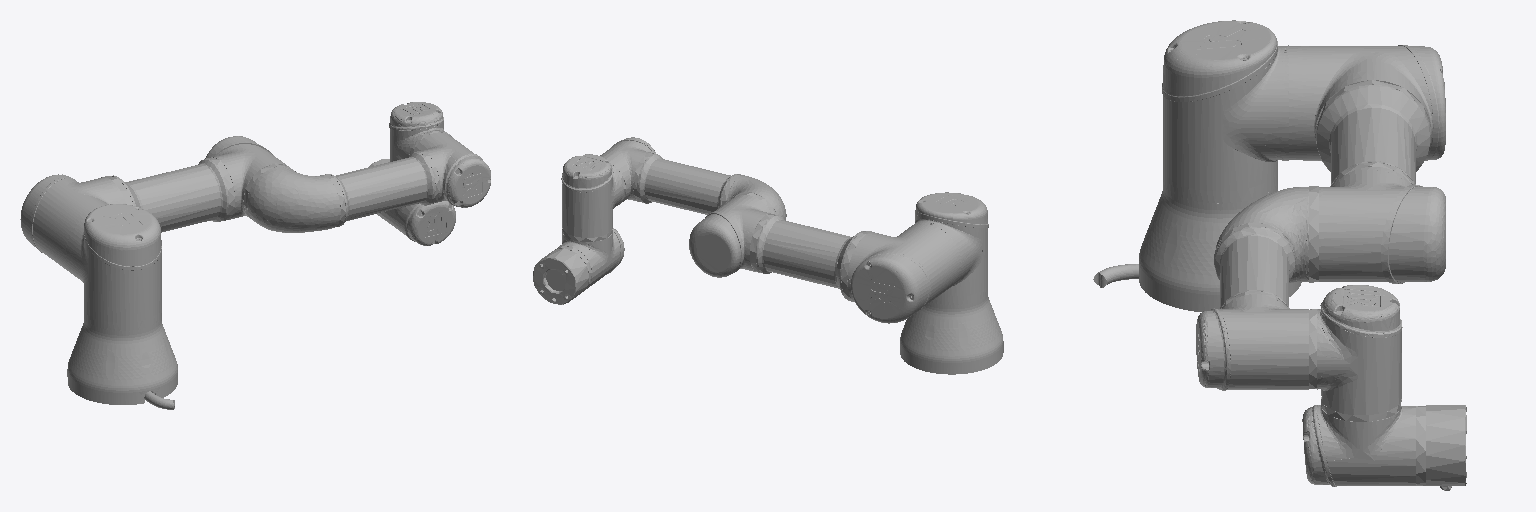
The robot description file, URDF, robot "ur3":
<?xml version="1.0" ?>
<!-- =================================================================================== -->
<!-- |    This document was autogenerated by xacro from urdf/ur3_joint_limited_robot.urdf.xacro | -->
<!-- |    EDITING THIS FILE BY HAND IS NOT RECOMMENDED                                 | -->
<!-- =================================================================================== -->
<robot name="ur3">
  <gazebo>
    <plugin filename="libgazebo_ros_control.so" name="ros_control">
      <!--robotNamespace>/</robotNamespace-->
      <!--robotSimType>gazebo_ros_control/DefaultRobotHWSim</robotSimType-->
    </plugin>
    <!--
    <plugin name="gazebo_ros_power_monitor_controller" filename="libgazebo_ros_power_monitor.so">
      <alwaysOn>true</alwaysOn>
      <updateRate>1.0</updateRate>
      <timeout>5</timeout>
      <powerStateTopic>power_state</powerStateTopic>
      <powerStateRate>10.0</powerStateRate>
      <fullChargeCapacity>87.78</fullChargeCapacity>     
      <dischargeRate>-474</dischargeRate>
      <chargeRate>525</chargeRate>
      <dischargeVoltage>15.52</dischargeVoltage>
      <chargeVoltage>16.41</chargeVoltage>
    </plugin>
-->
  </gazebo>
  <!--
  Author: [author]
-->
  <!-- measured from model -->
  <link name="base_link">
    <visual>
      <geometry>
        <mesh filename="package://ur_description/meshes/ur3/visual/base.dae"/>
      </geometry>
      <material name="LightGrey">
        <color rgba="0.7 0.7 0.7 1.0"/>
      </material>
    </visual>
    <collision>
      <geometry>
        <mesh filename="package://ur_description/meshes/ur3/collision/base.stl"/>
      </geometry>
    </collision>
    <inertial>
      <mass value="2.0"/>
      <origin rpy="0 0 0" xyz="0.0 0.0 0.0"/>
      <inertia ixx="0.0030531654454" ixy="0.0" ixz="0.0" iyy="0.0030531654454" iyz="0.0" izz="0.005625"/>
    </inertial>
  </link>
  <joint name="shoulder_pan_joint" type="revolute">
    <parent link="base_link"/>
    <child link="shoulder_link"/>
    <origin rpy="0.0 0.0 0.0" xyz="0.0 0.0 0.1519"/>
    <axis xyz="0 0 1"/>
    <limit effort="330.0" lower="-3.141592653589793" upper="3.141592653589793" velocity="2.16"/>
    <dynamics damping="0.0" friction="0.0"/>
  </joint>
  <link name="shoulder_link">
    <visual>
      <geometry>
        <mesh filename="package://ur_description/meshes/ur3/visual/shoulder.dae"/>
      </geometry>
      <material name="LightGrey">
        <color rgba="0.7 0.7 0.7 1.0"/>
      </material>
    </visual>
    <collision>
      <geometry>
        <mesh filename="package://ur_description/meshes/ur3/collision/shoulder.stl"/>
      </geometry>
    </collision>
    <inertial>
      <mass value="2.0"/>
      <origin rpy="0 0 0" xyz="0.0 0.0 0.0"/>
      <inertia ixx="0.008093163429399999" ixy="0.0" ixz="0.0" iyy="0.008093163429399999" iyz="0.0" izz="0.005625"/>
    </inertial>
  </link>
  <joint name="shoulder_lift_joint" type="revolute">
    <parent link="shoulder_link"/>
    <child link="upper_arm_link"/>
    <origin rpy="0.0 1.5707963267948966 0.0" xyz="0.0 0.1198 0.0"/>
    <axis xyz="0 1 0"/>
    <limit effort="330.0" lower="-3.141592653589793" upper="3.141592653589793" velocity="2.16"/>
    <dynamics damping="0.0" friction="0.0"/>
  </joint>
  <link name="upper_arm_link">
    <visual>
      <geometry>
        <mesh filename="package://ur_description/meshes/ur3/visual/upperarm.dae"/>
      </geometry>
      <material name="LightGrey">
        <color rgba="0.7 0.7 0.7 1.0"/>
      </material>
    </visual>
    <collision>
      <geometry>
        <mesh filename="package://ur_description/meshes/ur3/collision/upperarm.stl"/>
      </geometry>
    </collision>
    <inertial>
      <mass value="3.42"/>
      <origin rpy="0 0 0" xyz="0.0 0.0 0.121825"/>
      <inertia ixx="0.021728483221103233" ixy="0.0" ixz="0.0" iyy="0.021728483221103233" iyz="0.0" izz="0.00961875"/>
    </inertial>
  </link>
  <joint name="elbow_joint" type="revolute">
    <parent link="upper_arm_link"/>
    <child link="forearm_link"/>
    <origin rpy="0.0 0.0 0.0" xyz="0.0 -0.0925 0.24365"/>
    <axis xyz="0 1 0"/>
    <limit effort="150.0" lower="-3.141592653589793" upper="3.141592653589793" velocity="3.15"/>
    <dynamics damping="0.0" friction="0.0"/>
  </joint>
  <link name="forearm_link">
    <visual>
      <geometry>
        <mesh filename="package://ur_description/meshes/ur3/visual/forearm.dae"/>
      </geometry>
      <material name="LightGrey">
        <color rgba="0.7 0.7 0.7 1.0"/>
      </material>
    </visual>
    <collision>
      <geometry>
        <mesh filename="package://ur_description/meshes/ur3/collision/forearm.stl"/>
      </geometry>
    </collision>
    <inertial>
      <mass value="1.26"/>
      <origin rpy="0 0 0" xyz="0.0 0.0 0.106625"/>
      <inertia ixx="0.006546806443776375" ixy="0.0" ixz="0.0" iyy="0.006546806443776375" iyz="0.0" izz="0.00354375"/>
    </inertial>
  </link>
  <joint name="wrist_1_joint" type="revolute">
    <parent link="forearm_link"/>
    <child link="wrist_1_link"/>
    <origin rpy="0.0 1.5707963267948966 0.0" xyz="0.0 0.0 0.21325"/>
    <axis xyz="0 1 0"/>
    <limit effort="54.0" lower="-3.141592653589793" upper="3.141592653589793" velocity="3.2"/>
    <dynamics damping="0.0" friction="0.0"/>
  </joint>
  <link name="wrist_1_link">
    <visual>
      <geometry>
        <mesh filename="package://ur_description/meshes/ur3/visual/wrist1.dae"/>
      </geometry>
      <material name="LightGrey">
        <color rgba="0.7 0.7 0.7 1.0"/>
      </material>
    </visual>
    <collision>
      <geometry>
        <mesh filename="package://ur_description/meshes/ur3/collision/wrist1.stl"/>
      </geometry>
    </collision>
    <inertial>
      <mass value="0.8"/>
      <origin rpy="0 0 0" xyz="0.0 0.08505 0.0"/>
      <inertia ixx="0.002084999166" ixy="0.0" ixz="0.0" iyy="0.002084999166" iyz="0.0" izz="0.00225"/>
    </inertial>
  </link>
  <joint name="wrist_2_joint" type="revolute">
    <parent link="wrist_1_link"/>
    <child link="wrist_2_link"/>
    <origin rpy="0.0 0.0 0.0" xyz="0.0 0.08505 0.0"/>
    <axis xyz="0 0 1"/>
    <limit effort="54.0" lower="-3.141592653589793" upper="3.141592653589793" velocity="3.2"/>
    <dynamics damping="0.0" friction="0.0"/>
  </joint>
  <link name="wrist_2_link">
    <visual>
      <geometry>
        <mesh filename="package://ur_description/meshes/ur3/visual/wrist2.dae"/>
      </geometry>
      <material name="LightGrey">
        <color rgba="0.7 0.7 0.7 1.0"/>
      </material>
    </visual>
    <collision>
      <geometry>
        <mesh filename="package://ur_description/meshes/ur3/collision/wrist2.stl"/>
      </geometry>
    </collision>
    <inertial>
      <mass value="0.8"/>
      <origin rpy="0 0 0" xyz="0.0 0.0 0.08535"/>
      <inertia ixx="0.002084999166" ixy="0.0" ixz="0.0" iyy="0.002084999166" iyz="0.0" izz="0.00225"/>
    </inertial>
  </link>
  <joint name="wrist_3_joint" type="revolute">
    <parent link="wrist_2_link"/>
    <child link="wrist_3_link"/>
    <origin rpy="0.0 0.0 0.0" xyz="0.0 0.0 0.08535"/>
    <axis xyz="0 1 0"/>
    <limit effort="54.0" lower="-3.141592653589793" upper="3.141592653589793" velocity="3.2"/>
    <dynamics damping="0.0" friction="0.0"/>
  </joint>
  <link name="wrist_3_link">
    <visual>
      <geometry>
        <mesh filename="package://ur_description/meshes/ur3/visual/wrist3.dae"/>
      </geometry>
      <material name="LightGrey">
        <color rgba="0.7 0.7 0.7 1.0"/>
      </material>
    </visual>
    <collision>
      <geometry>
        <mesh filename="package://ur_description/meshes/ur3/collision/wrist3.stl"/>
      </geometry>
    </collision>
    <inertial>
      <mass value="0.35"/>
      <origin rpy="1.5707963267948966 0 0" xyz="0.0 0.0619 0.0"/>
      <inertia ixx="0.00013626661215999998" ixy="0.0" ixz="0.0" iyy="0.00013626661215999998" iyz="0.0" izz="0.0001792"/>
    </inertial>
  </link>
  <joint name="ee_fixed_joint" type="fixed">
    <parent link="wrist_3_link"/>
    <child link="ee_link"/>
    <origin rpy="0.0 0.0 1.5707963267948966" xyz="0.0 0.0819 0.0"/>
  </joint>
  <link name="ee_link">
    <collision>
      <geometry>
        <box size="0.01 0.01 0.01"/>
      </geometry>
      <origin rpy="0 0 0" xyz="-0.01 0 0"/>
    </collision>
  </link>
  <transmission name="shoulder_pan_trans">
    <type>transmission_interface/SimpleTransmission</type>
    <joint name="shoulder_pan_joint">
      <hardwareInterface>hardware_interface/PositionJointInterface</hardwareInterface>
    </joint>
    <actuator name="shoulder_pan_motor">
      <mechanicalReduction>1</mechanicalReduction>
    </actuator>
  </transmission>
  <transmission name="shoulder_lift_trans">
    <type>transmission_interface/SimpleTransmission</type>
    <joint name="shoulder_lift_joint">
      <hardwareInterface>hardware_interface/PositionJointInterface</hardwareInterface>
    </joint>
    <actuator name="shoulder_lift_motor">
      <mechanicalReduction>1</mechanicalReduction>
    </actuator>
  </transmission>
  <transmission name="elbow_trans">
    <type>transmission_interface/SimpleTransmission</type>
    <joint name="elbow_joint">
      <hardwareInterface>hardware_interface/PositionJointInterface</hardwareInterface>
    </joint>
    <actuator name="elbow_motor">
      <mechanicalReduction>1</mechanicalReduction>
    </actuator>
  </transmission>
  <transmission name="wrist_1_trans">
    <type>transmission_interface/SimpleTransmission</type>
    <joint name="wrist_1_joint">
      <hardwareInterface>hardware_interface/PositionJointInterface</hardwareInterface>
    </joint>
    <actuator name="wrist_1_motor">
      <mechanicalReduction>1</mechanicalReduction>
    </actuator>
  </transmission>
  <transmission name="wrist_2_trans">
    <type>transmission_interface/SimpleTransmission</type>
    <joint name="wrist_2_joint">
      <hardwareInterface>hardware_interface/PositionJointInterface</hardwareInterface>
    </joint>
    <actuator name="wrist_2_motor">
      <mechanicalReduction>1</mechanicalReduction>
    </actuator>
  </transmission>
  <transmission name="wrist_3_trans">
    <type>transmission_interface/SimpleTransmission</type>
    <joint name="wrist_3_joint">
      <hardwareInterface>hardware_interface/PositionJointInterface</hardwareInterface>
    </joint>
    <actuator name="wrist_3_motor">
      <mechanicalReduction>1</mechanicalReduction>
    </actuator>
  </transmission>
  <gazebo reference="shoulder_link">
    <selfCollide>true</selfCollide>
  </gazebo>
  <gazebo reference="upper_arm_link">
    <selfCollide>true</selfCollide>
  </gazebo>
  <gazebo reference="forearm_link">
    <selfCollide>true</selfCollide>
  </gazebo>
  <gazebo reference="wrist_1_link">
    <selfCollide>true</selfCollide>
  </gazebo>
  <gazebo reference="wrist_3_link">
    <selfCollide>true</selfCollide>
  </gazebo>
  <gazebo reference="wrist_2_link">
    <selfCollide>true</selfCollide>
  </gazebo>
  <gazebo reference="ee_link">
    <selfCollide>true</selfCollide>
  </gazebo>
  <!-- ROS base_link to UR 'Base' Coordinates transform -->
  <link name="base"/>
  <joint name="base_link-base_fixed_joint" type="fixed">
    <!-- NOTE: this rotation is only needed as long as base_link itself is
                 not corrected wrt the real robot (ie: rotated over 180
                 degrees)
      -->
    <origin rpy="0 0 -3.141592653589793" xyz="0 0 0"/>
    <parent link="base_link"/>
    <child link="base"/>
  </joint>
  <!-- Frame coincident with all-zeros TCP on UR controller -->
  <link name="tool0"/>
  <joint name="wrist_3_link-tool0_fixed_joint" type="fixed">
    <origin rpy="-1.5707963267948966 0 0" xyz="0 0.0819 0"/>
    <parent link="wrist_3_link"/>
    <child link="tool0"/>
  </joint>
  <link name="world"/>
  <joint name="world_joint" type="fixed">
    <parent link="world"/>
    <child link="base_link"/>
    <origin rpy="0.0 0.0 0.0" xyz="0.0 0.0 0.0"/>
  </joint>
</robot>

--- What the picture shows (computed from the rendered views, not written in the file) ---
Views: 3 orthographic renders of the robot side by side, from view 1: azimuth 30°, elevation 25°; view 2: azimuth 150°, elevation 25°; view 3: azimuth 270°, elevation 25°.
Robot: ur3 — 11 links, 10 joints (6 revolute, 4 fixed); root link world; default pose: every joint at zero.
Links seen in each view (by area): view 1: forearm_link, upper_arm_link, shoulder_link, base_link, wrist_1_link, wrist_2_link; view 2: upper_arm_link, forearm_link, base_link, shoulder_link, wrist_1_link, wrist_3_link, wrist_2_link; view 3: upper_arm_link, shoulder_link, forearm_link, wrist_1_link, base_link, wrist_2_link, wrist_3_link.
Link boxes in pixels (bbox=[...]): forearm_link: bbox=[247, 132, 490, 232]; upper_arm_link: bbox=[20, 136, 289, 273]; shoulder_link: bbox=[66, 204, 161, 330]; base_link: bbox=[67, 316, 177, 409]; wrist_1_link: bbox=[389, 102, 451, 161]; wrist_2_link: bbox=[378, 201, 455, 245]; upper_arm_link: bbox=[689, 192, 960, 323]; forearm_link: bbox=[600, 137, 786, 220]; base_link: bbox=[900, 293, 1003, 374]; shoulder_link: bbox=[912, 192, 988, 304]; wrist_1_link: bbox=[561, 154, 625, 237]; wrist_3_link: bbox=[533, 246, 591, 304]; wrist_2_link: bbox=[555, 228, 624, 288]; upper_arm_link: bbox=[1289, 45, 1445, 283]; shoulder_link: bbox=[1162, 20, 1288, 203]; forearm_link: bbox=[1196, 187, 1308, 390]; wrist_1_link: bbox=[1309, 285, 1402, 414]; base_link: bbox=[1093, 182, 1301, 311]; wrist_2_link: bbox=[1302, 397, 1415, 486]; wrist_3_link: bbox=[1416, 405, 1466, 490].
Size in the robot's own frame: 0.5531 by 0.2923 by 0.2097 metres.
Meshes: 7 distinct files referenced, 7 mesh visuals loaded (7 Collada DAE).